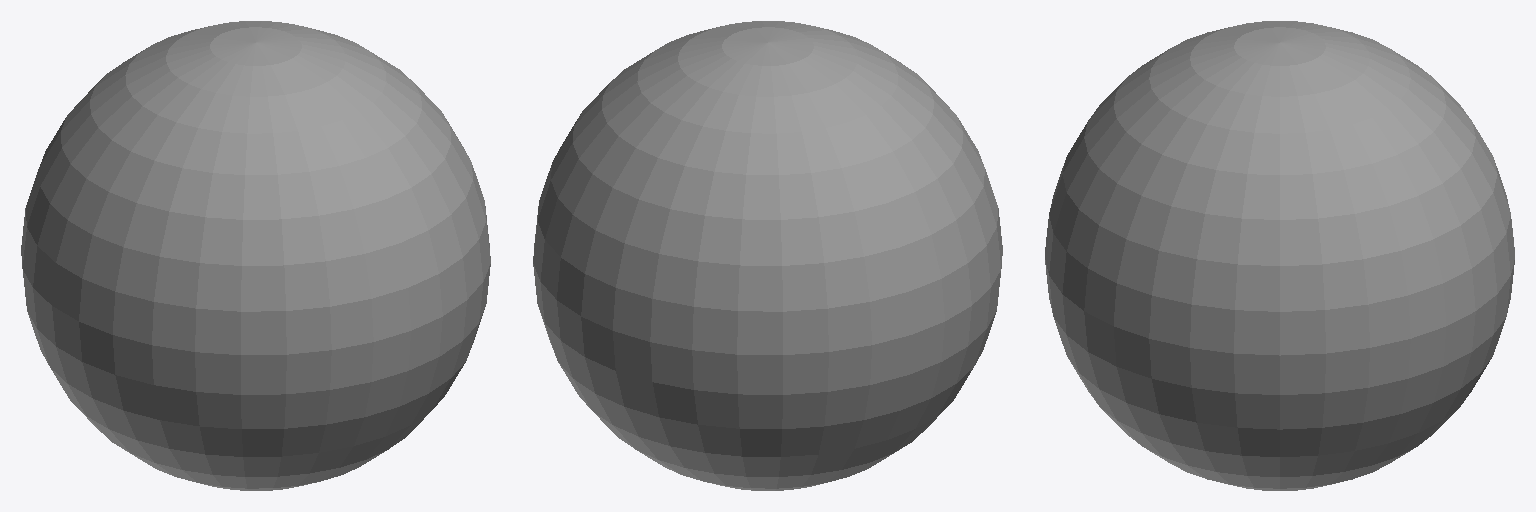
Rendered from PA10PinballBall.obj.
3 views of the same model, side by side, from view 1: azimuth 30°, elevation 25°; view 2: azimuth 150°, elevation 25°; view 3: azimuth 270°, elevation 25° (orthographic).
Parts seen in each view (by area): view 1: Sphere; view 2: Sphere; view 3: Sphere.
Boxes of the visible parts, box(x1,y1,x2,y2) form: Sphere: box(21, 21, 490, 490); Sphere: box(533, 21, 1002, 490); Sphere: box(1045, 21, 1514, 490).
Size of the model in its own units: 1.73 by 1.73 by 1.73.